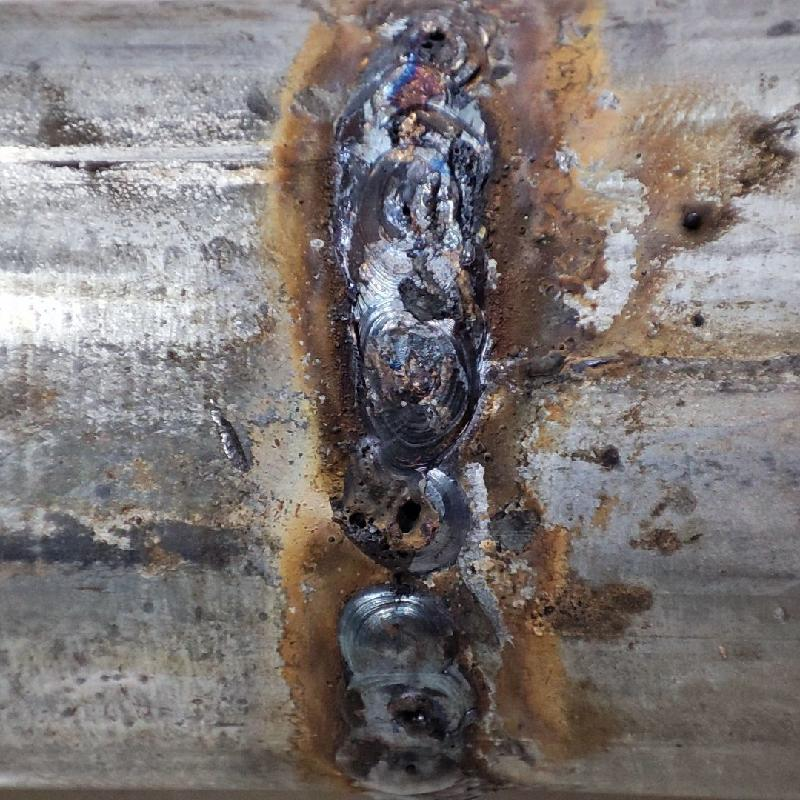Surface_pores: (338, 466, 447, 552), (384, 188, 426, 230)
crater: (328, 6, 486, 277)
